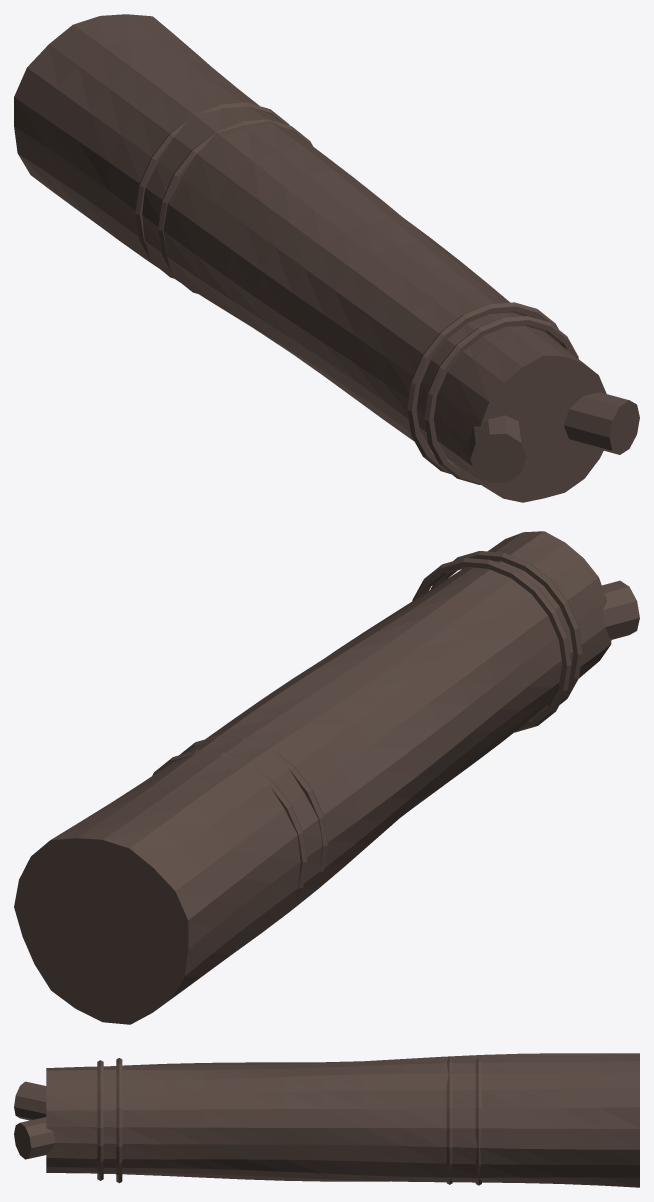
Rendered from HALL_POST_MODULE.glb.
3 views of the same model, one above another, from view 1: azimuth 30°, elevation 25°; view 2: azimuth 150°, elevation 25°; view 3: azimuth 270°, elevation 25° (orthographic). The views are drawn at different scales.
Parts seen in each view (by area): view 1: HALL_POST_MODULE; view 2: HALL_POST_MODULE; view 3: HALL_POST_MODULE.
Boxes of the visible parts, x1,y1,x2,y2 form: HALL_POST_MODULE: (14,14,639,502); HALL_POST_MODULE: (14,531,639,1024); HALL_POST_MODULE: (14,1053,639,1187).
Bounding box in the file's own units: 1.72 × 1.72 × 7.96.
